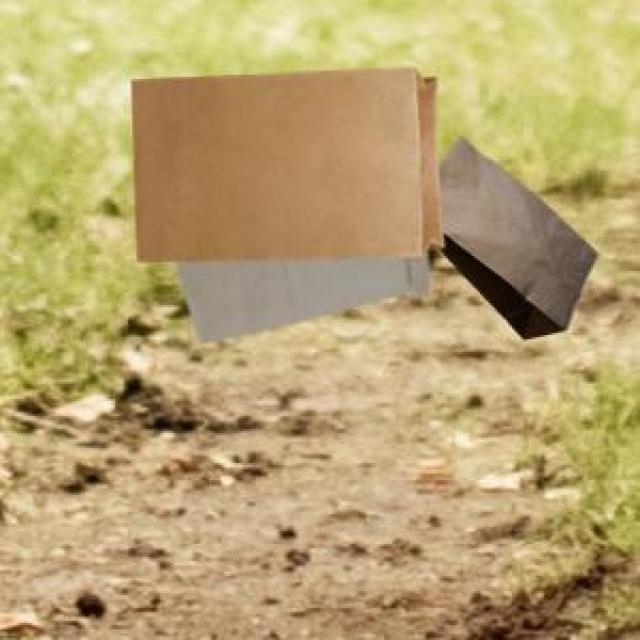paper: (128, 64, 438, 258), (433, 132, 593, 335), (173, 246, 425, 339)
